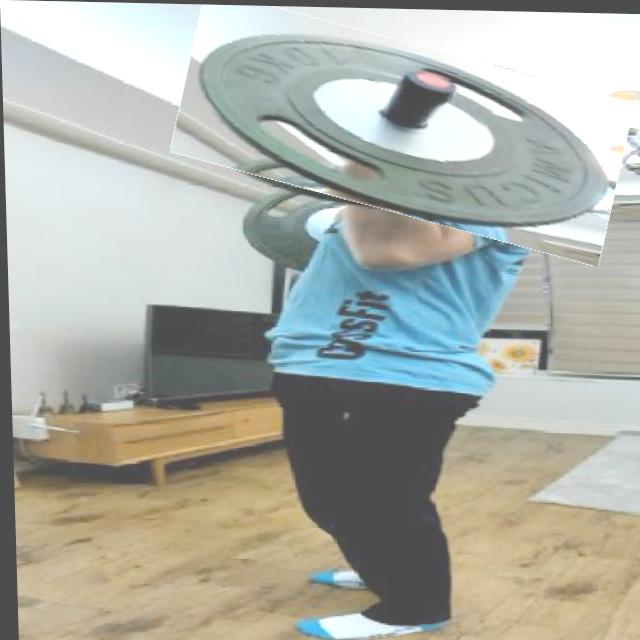barbell: (175, 13, 631, 240)
